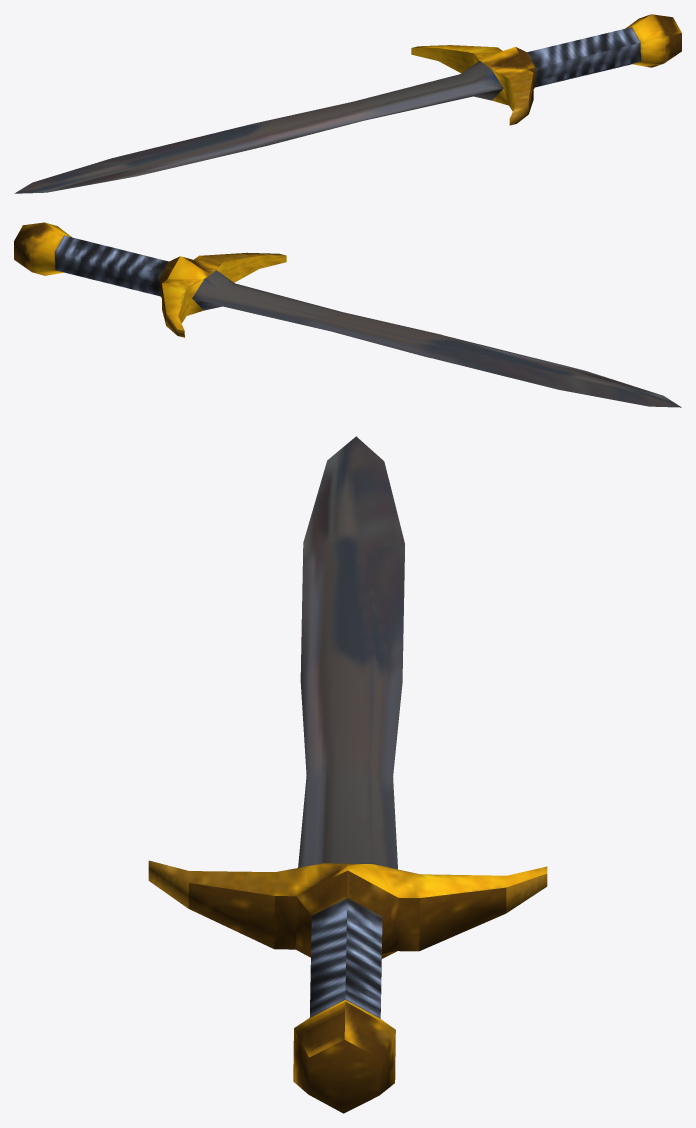
The model's file is sword.obj.
3 renders of one model, top to bottom at view 1: azimuth 30°, elevation 25°; view 2: azimuth 150°, elevation 25°; view 3: azimuth 270°, elevation 25°, orthographic. The views are drawn at different scales.
Parts seen in each view (by area): view 1: Handle62; view 2: Handle62; view 3: Handle62.
Part boxes in pixels (x1,y1,x2,y2): Handle62: [14, 14, 681, 193]; Handle62: [14, 222, 681, 407]; Handle62: [148, 436, 547, 1113].
Size of the model in its own units: 4.37 by 0.3393 by 1.15.
1 material, 1 textured.
